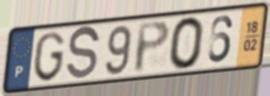6: (208, 14, 235, 66)
9: (103, 24, 134, 77)
G: (31, 30, 66, 84)
O: (168, 15, 206, 72)
P: (132, 19, 172, 76)
S: (65, 23, 102, 84)
